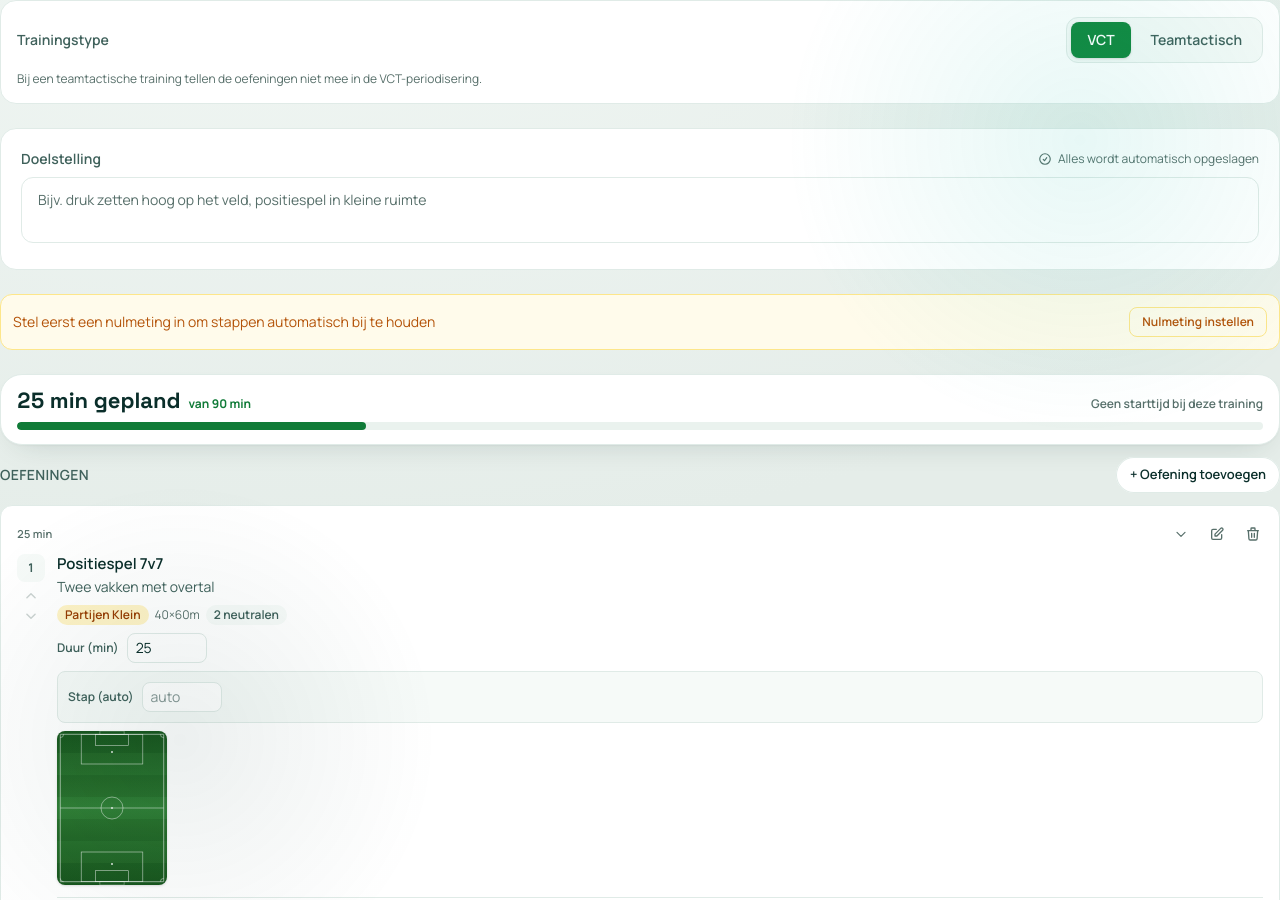
Test: AC1 — trainingskaart: potlood opent het bewerkformulier vooringevuld › naam, beschrijving, categorie, duur, veldafmetingen, veldzone, teams/formaties/keeper, neutralen en diagram staan vooringevuld
Click the button named "Oefening bewerken: Positiespel 7v7": (1217, 534) [1201,518,1233,550]
(page scrolled)
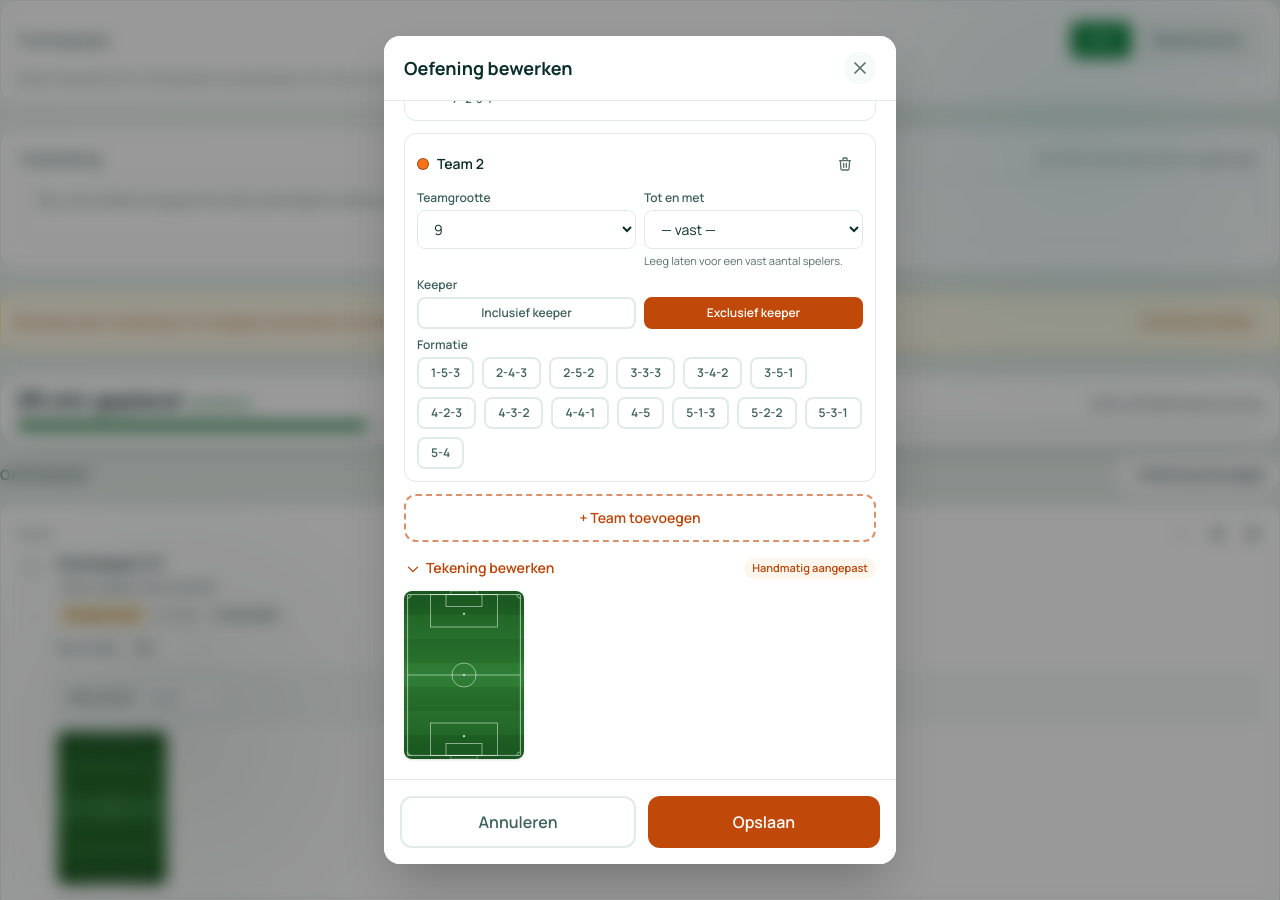
Expected: the heading "Oefening bewerken" is shown, [404,54,573,82]
Expected: the number of fields labelled "Teamgrootte" is 2
Expected: the dropdown labelled "Teamgrootte" shows "9", [417,210,636,248]
